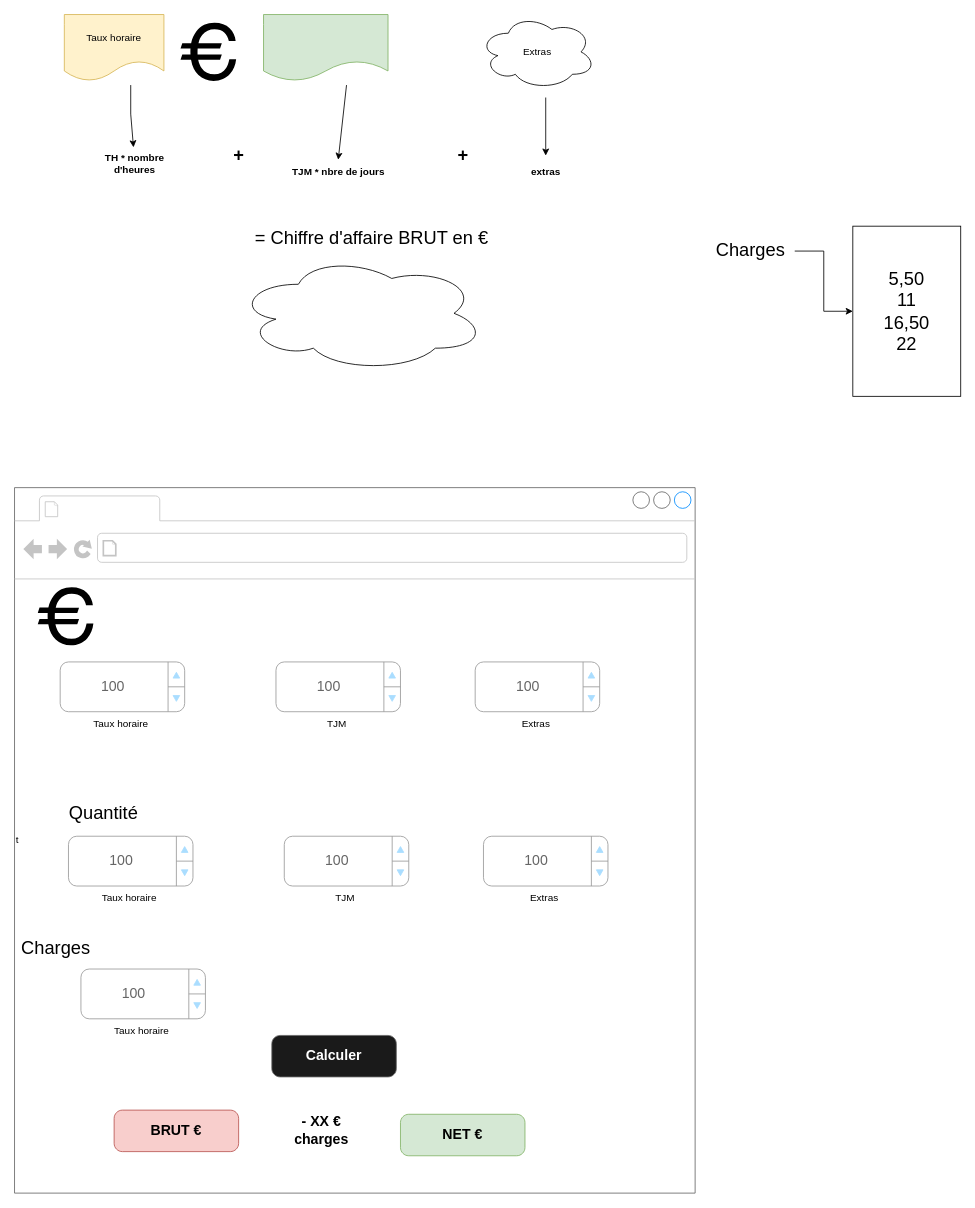
Some shapes in this 975 by 1208 pixel diagram are drawn without their labels. Here are the shapes that lost their labels. From the top down, the centre of each, then its label:
the point at 325,47: TJM Taux Journalier Moyen
the point at 360,312: CA - X% de charges
the point at 109,508: Page 1
the point at 226,548: https://www.draw.io
